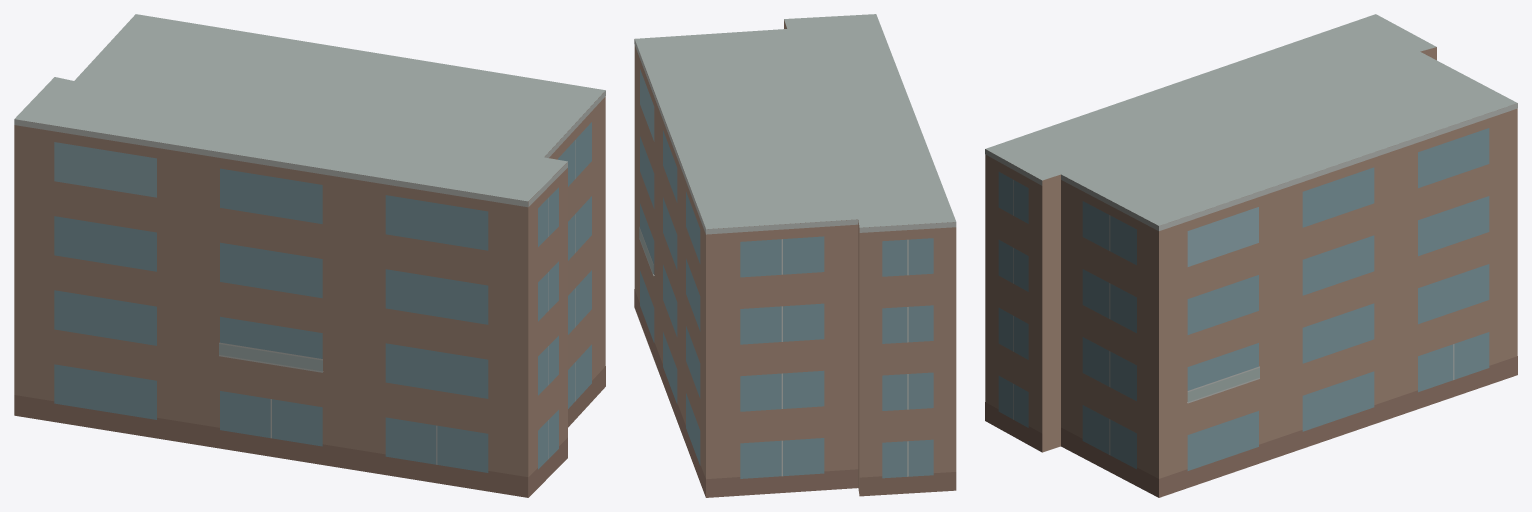
File: survey-upis-32703281.glb
3 renders of one model, left to right at view 1: azimuth 30°, elevation 25°; view 2: azimuth 150°, elevation 25°; view 3: azimuth 270°, elevation 25°, orthographic. The views are drawn at different scales.
Parts seen in each view (by area): view 1: survey-upis-32703281.tmp; view 2: survey-upis-32703281.tmp; view 3: survey-upis-32703281.tmp.
Part boxes in pixels (x1,y1,x2,y2): survey-upis-32703281.tmp: (14,14,605,497); survey-upis-32703281.tmp: (634,14,956,497); survey-upis-32703281.tmp: (985,14,1517,497).
Bounding box in the file's own units: 20.65 × 12.35 × 21.93.
